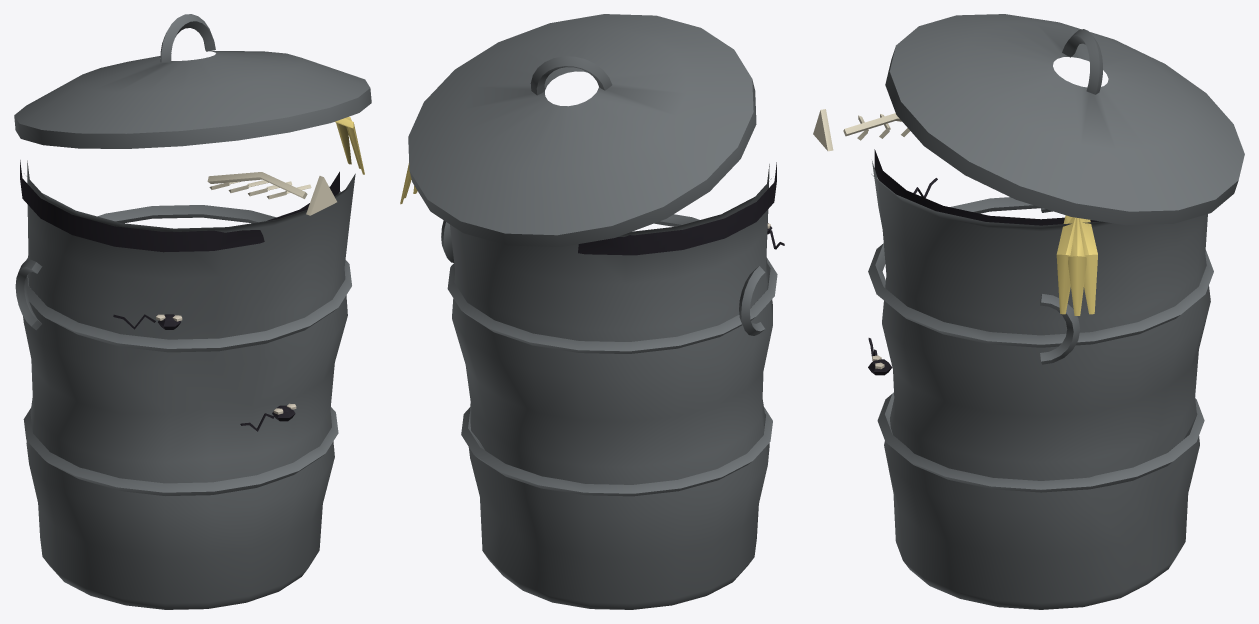
Rendered from trash_lidded.glb.
3 renders of one model, left to right at view 1: azimuth 30°, elevation 25°; view 2: azimuth 150°, elevation 25°; view 3: azimuth 270°, elevation 25°, orthographic. The views are drawn at different scales.
Parts seen in each view (by area): view 1: trash_lidded; view 2: trash_lidded; view 3: trash_lidded.
Boxes of the visible parts, box(x1,y1,x2,y2) form: trash_lidded: box(14, 14, 371, 609); trash_lidded: box(400, 14, 784, 609); trash_lidded: box(813, 14, 1244, 609).
Size of the model in its own units: 0.5706 by 0.8073 by 0.5948.
